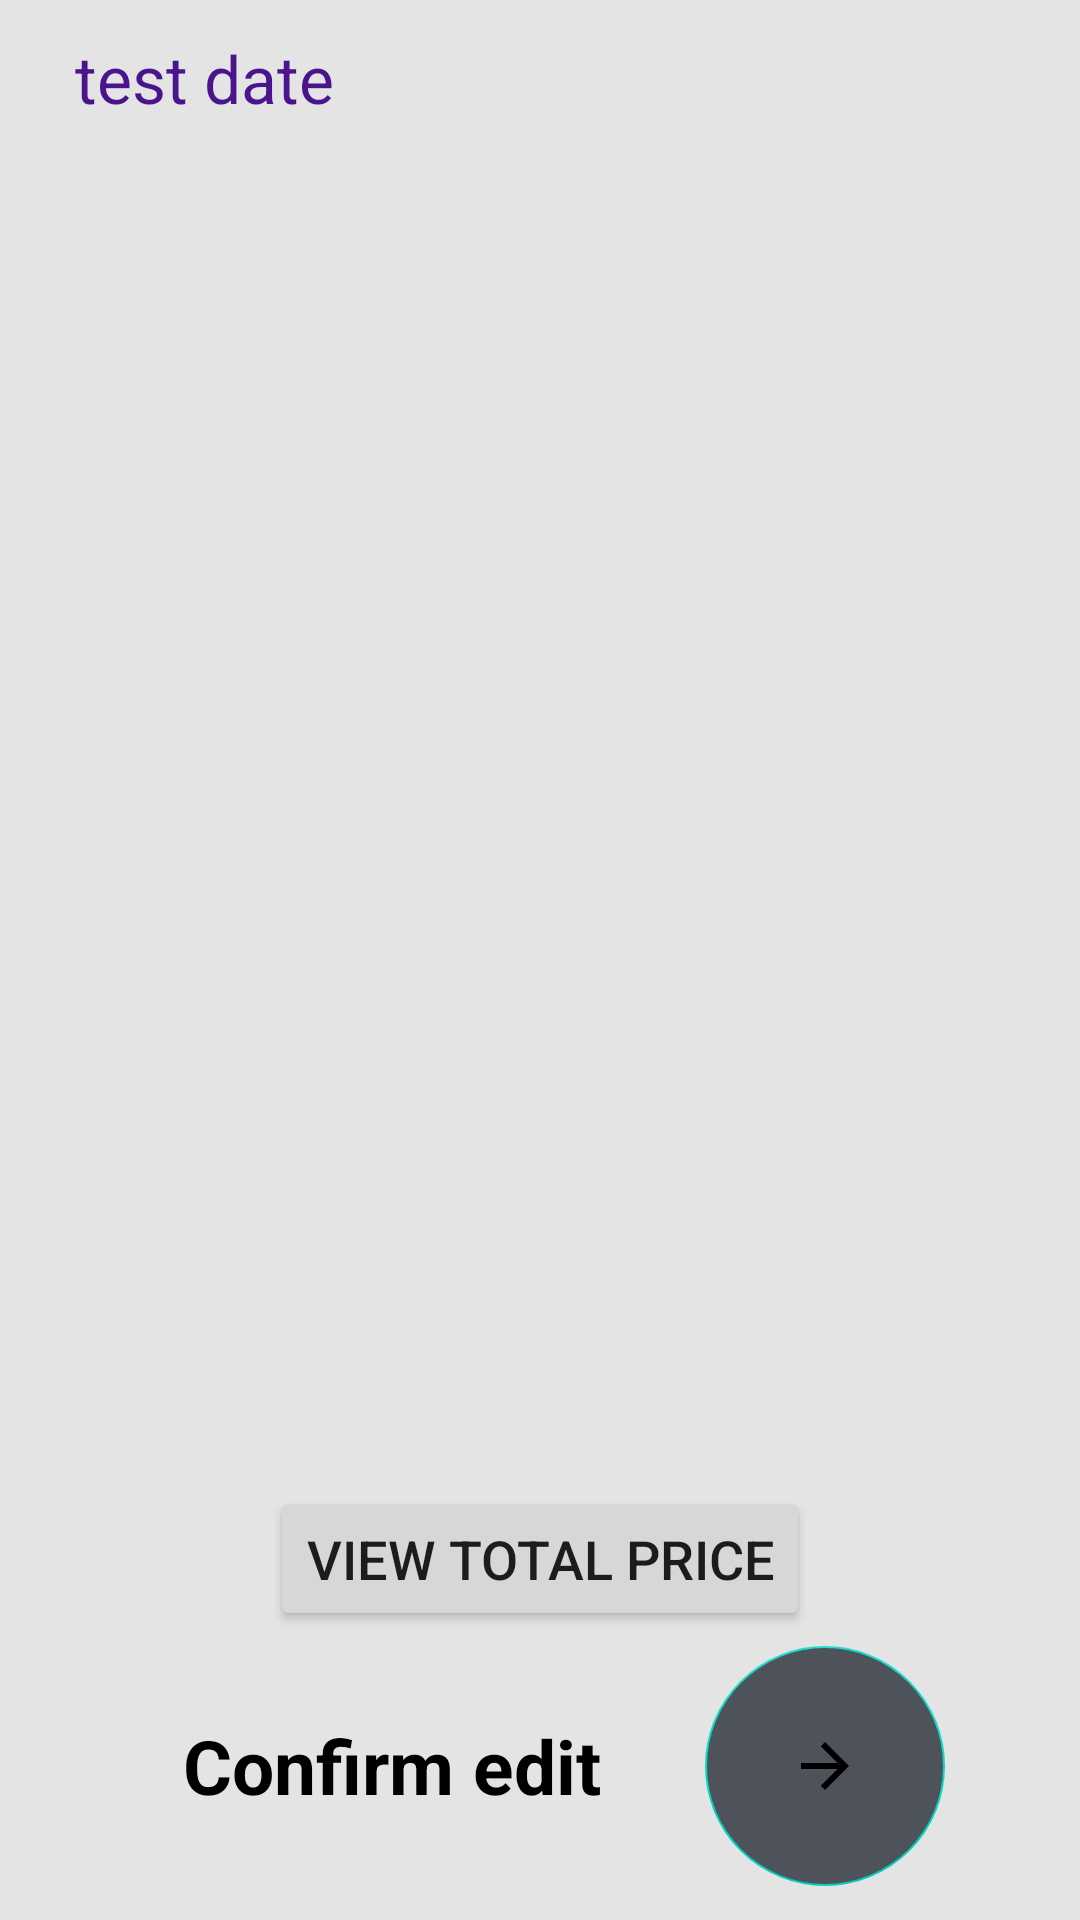

Named icons in this screenshot (1080x1920) and their bounding boxes, (x1, y1, x2, y2):
arrow forward: (705, 1646, 945, 1886)
